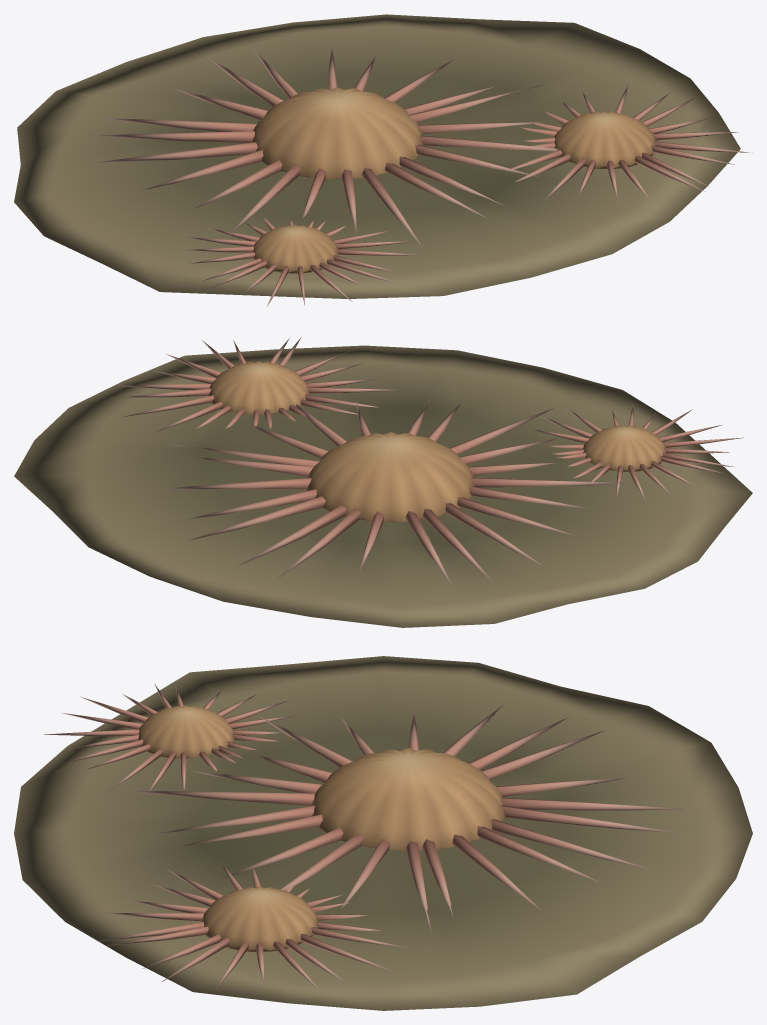
File: Hiemalora.fbx
3 views of the same model, one above another, from view 1: azimuth 30°, elevation 25°; view 2: azimuth 150°, elevation 25°; view 3: azimuth 270°, elevation 25° (orthographic). The views are drawn at different scales.
Parts seen in each view (by area): view 1: Hiemalora; view 2: Hiemalora; view 3: Hiemalora.
Boxes of the visible parts, box(x1,y1,x2,y2) form: Hiemalora: box(14, 14, 752, 306); Hiemalora: box(14, 337, 752, 627); Hiemalora: box(14, 656, 752, 1010).
Bounding box in the file's own units: 1.7 × 0.138 × 1.5.
